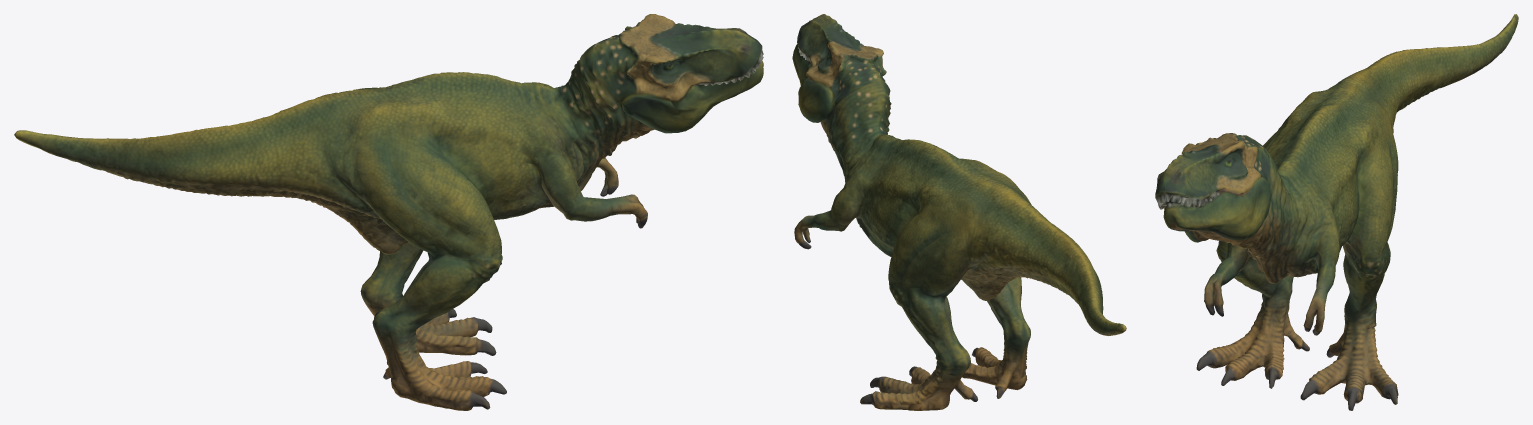
The picture shows the model from 3 angles, left to right: view 1: azimuth 30°, elevation 25°; view 2: azimuth 150°, elevation 25°; view 3: azimuth 270°, elevation 25°; orthographic projection. The views are drawn at different scales.
Visible parts, largest first — view 1: geo.007; view 2: geo.007; view 3: geo.007.
Part boxes in pixels (x1,y1,x2,y2): geo.007: (14,14,763,410); geo.007: (792,14,1126,410); geo.007: (1155,14,1518,410).
Size of the model in its own units: 0.2397 by 0.1353 by 0.14.
1 material, 1 textured.
